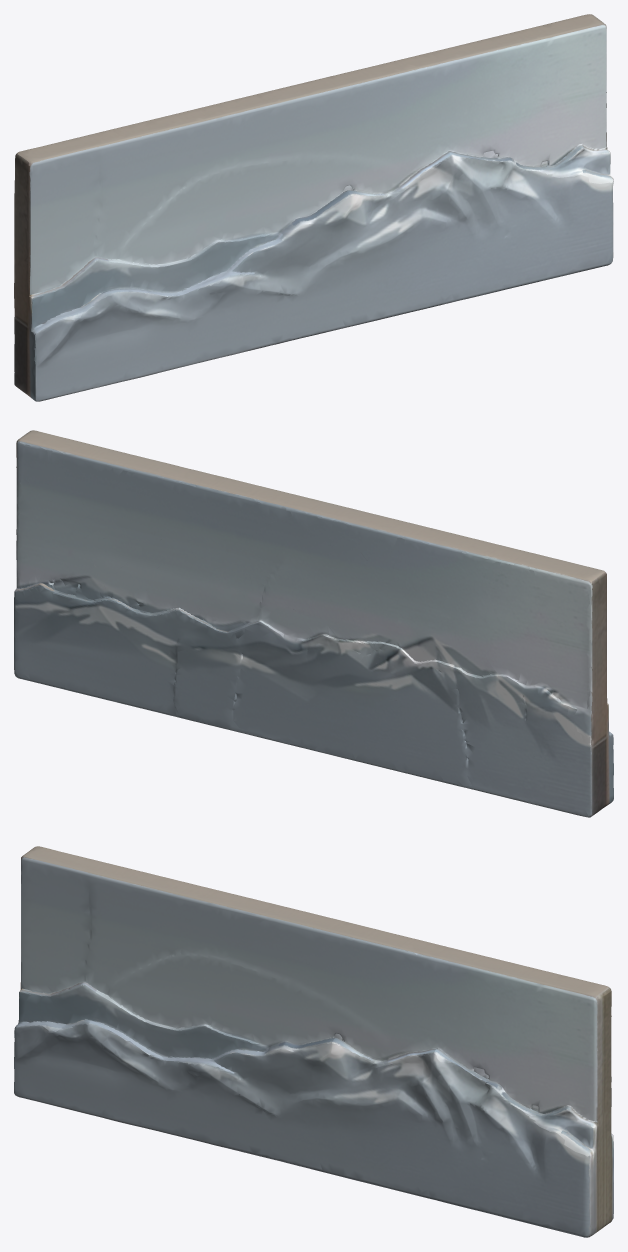
The model's file is mountain-far_raw.glb.
3 renders of one model, top to bottom at view 1: azimuth 30°, elevation 25°; view 2: azimuth 150°, elevation 25°; view 3: azimuth 330°, elevation 25°, orthographic.
Visible parts, largest first — view 1: geometry_0; view 2: geometry_0; view 3: geometry_0.
Part boxes in pixels (x1=…): geometry_0: x1=14, y1=14, x2=613, y2=401; geometry_0: x1=14, y1=430, x2=613, y2=817; geometry_0: x1=14, y1=846, x2=613, y2=1237.
Size of the model in its own units: 1.2 by 0.4695 by 0.092.
1 material, 1 textured.
